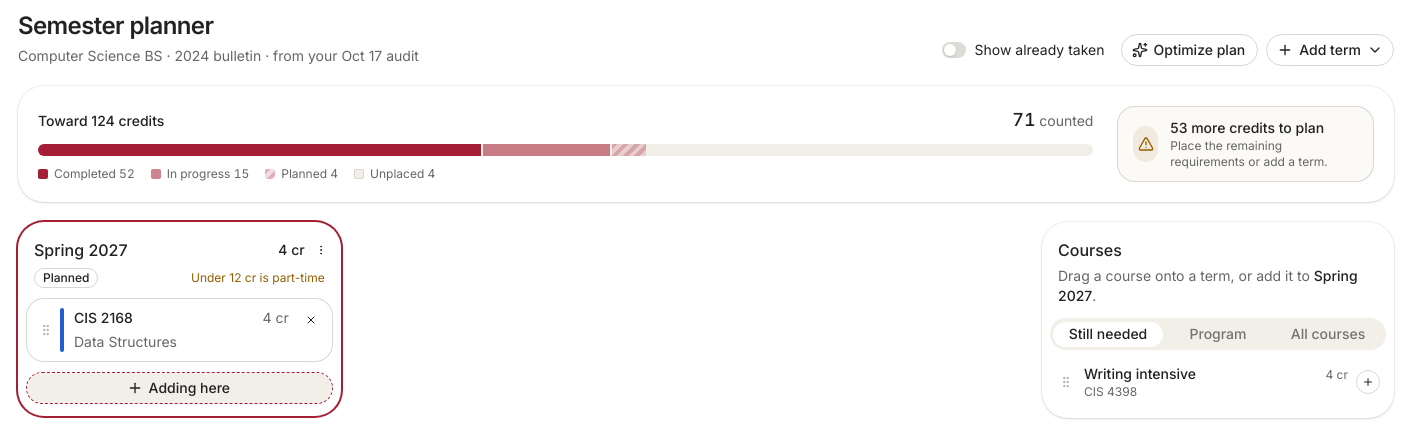
Test: PlanPage › adds an upcoming term from the menu
What coordinates should you click on to do the following:
click the button "Add term"
I would click on:
 (1330, 50)
Its box is left=1266, top=34, right=1394, bottom=66.
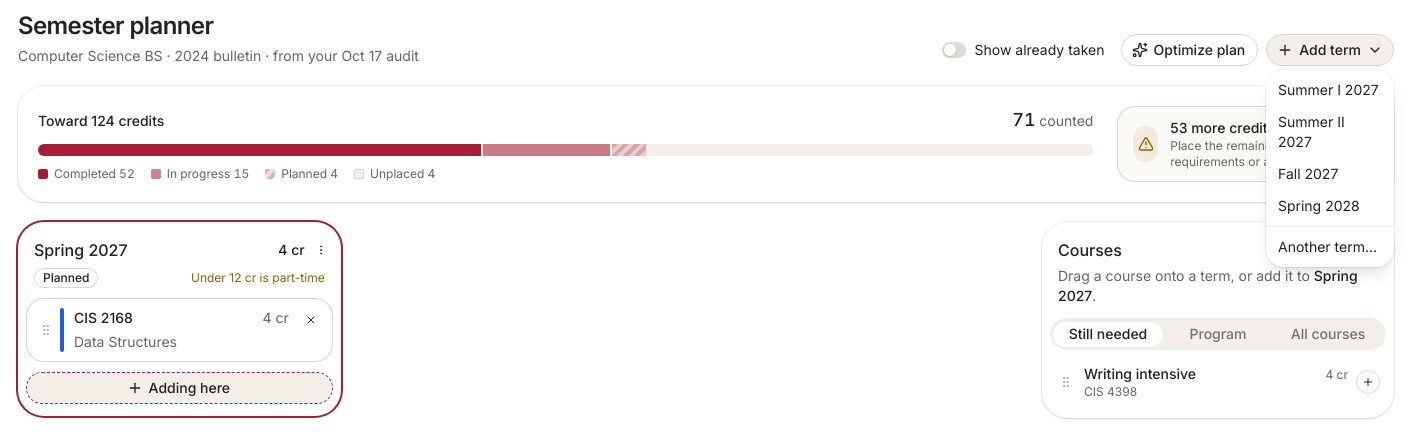
What coordinates should you click on to do the following:
click the menu item "Fall 2027"
I would click on:
 (1308, 174)
Its box is left=1278, top=165, right=1338, bottom=182.
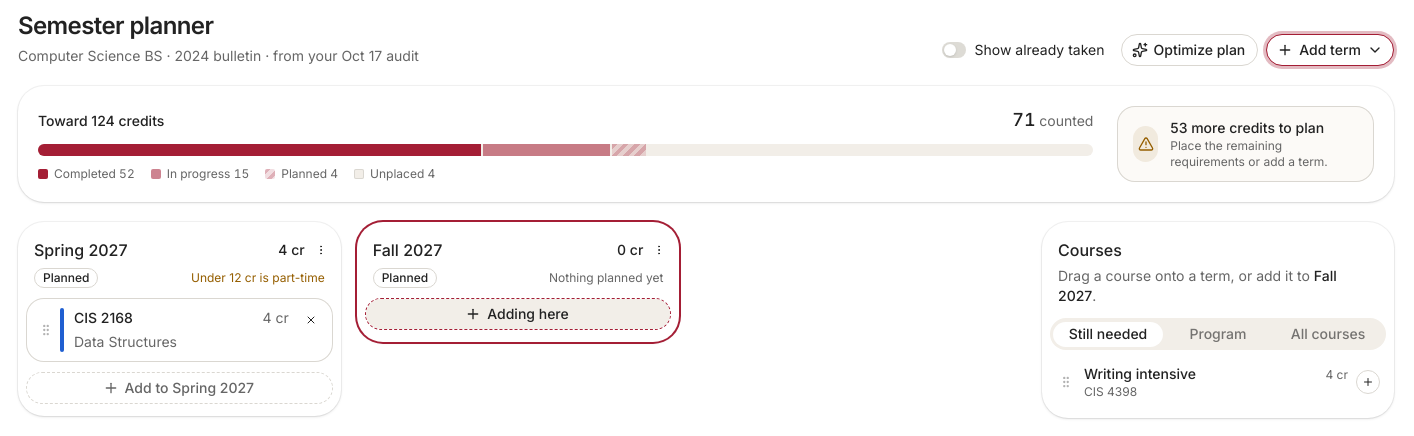
Expected: the element "Fall 2027" is shown, left=357, top=222, right=679, bottom=342
